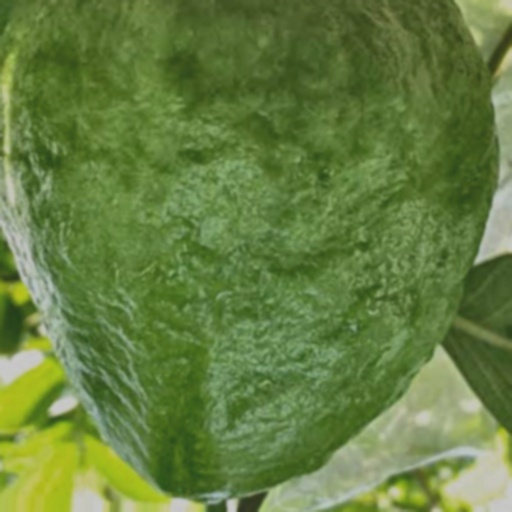guava: (107, 112, 502, 428)
